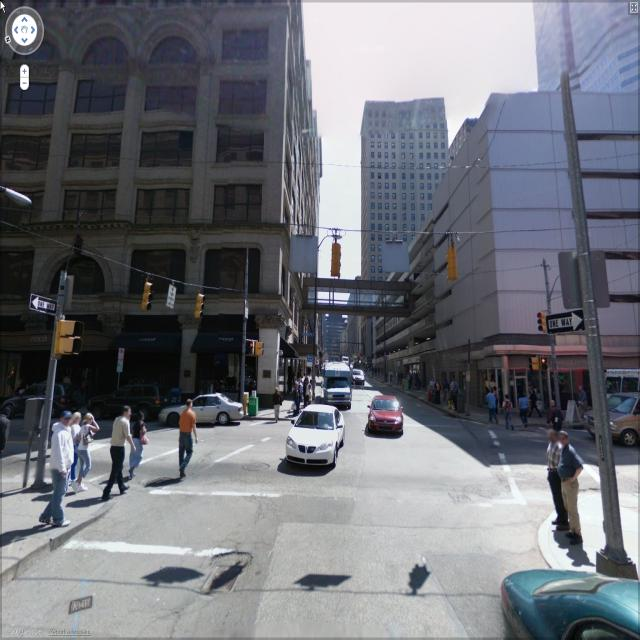b_1: (2, 1, 320, 375), (391, 111, 640, 410), (354, 78, 460, 264), (530, 2, 636, 88), (321, 310, 356, 370)
